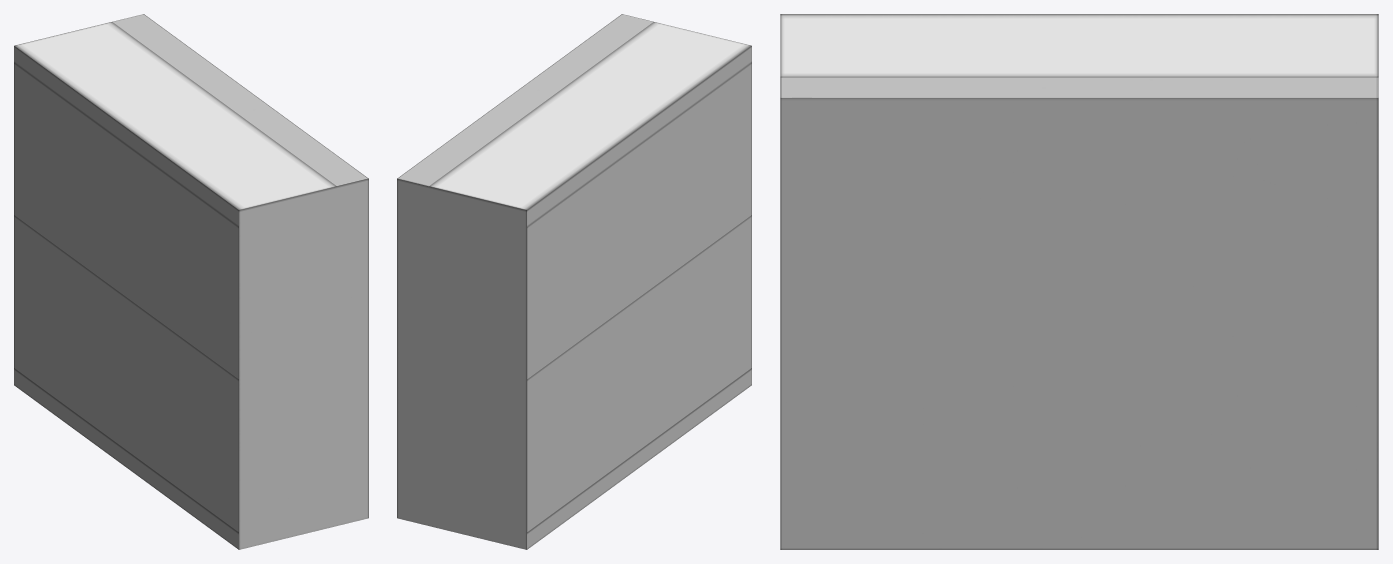
File: Wall_Normal_02.FBX
3 renders of one model, left to right at view 1: azimuth 30°, elevation 25°; view 2: azimuth 150°, elevation 25°; view 3: azimuth 270°, elevation 25°, orthographic. The views are drawn at different scales.
Parts seen in each view (by area): view 1: Wall_Normal_02; view 2: Wall_Normal_02; view 3: Wall_Normal_02.
Part boxes in pixels (box(x1,y1,x2,y2)): Wall_Normal_02: box(14, 14, 368, 549); Wall_Normal_02: box(397, 14, 751, 549); Wall_Normal_02: box(780, 14, 1378, 549).
Size of the model in its own units: 2 by 5 by 6.
